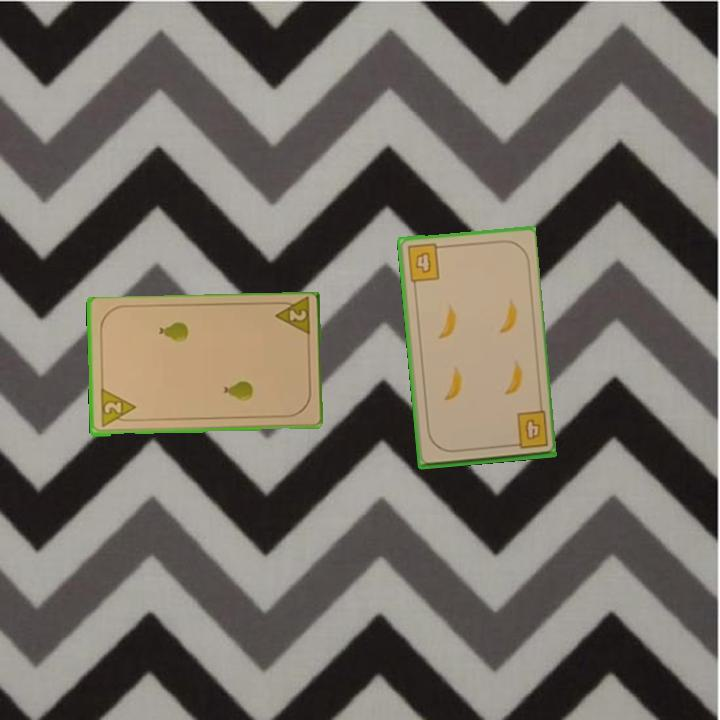2p: (270, 296, 313, 341), (97, 387, 138, 431)
4b: (506, 408, 551, 452), (403, 240, 446, 285)
